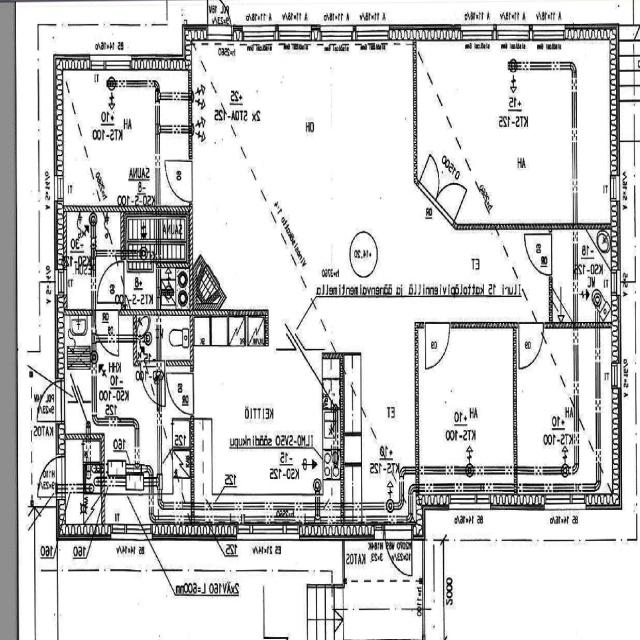door: (435, 171, 466, 226), (418, 151, 449, 206), (385, 524, 412, 585), (32, 456, 65, 497), (33, 381, 66, 421), (96, 261, 126, 304), (94, 310, 119, 358), (519, 322, 544, 369), (425, 322, 450, 369), (525, 234, 553, 274), (167, 160, 194, 201), (167, 372, 194, 413), (141, 360, 165, 406), (208, 0, 232, 40)
